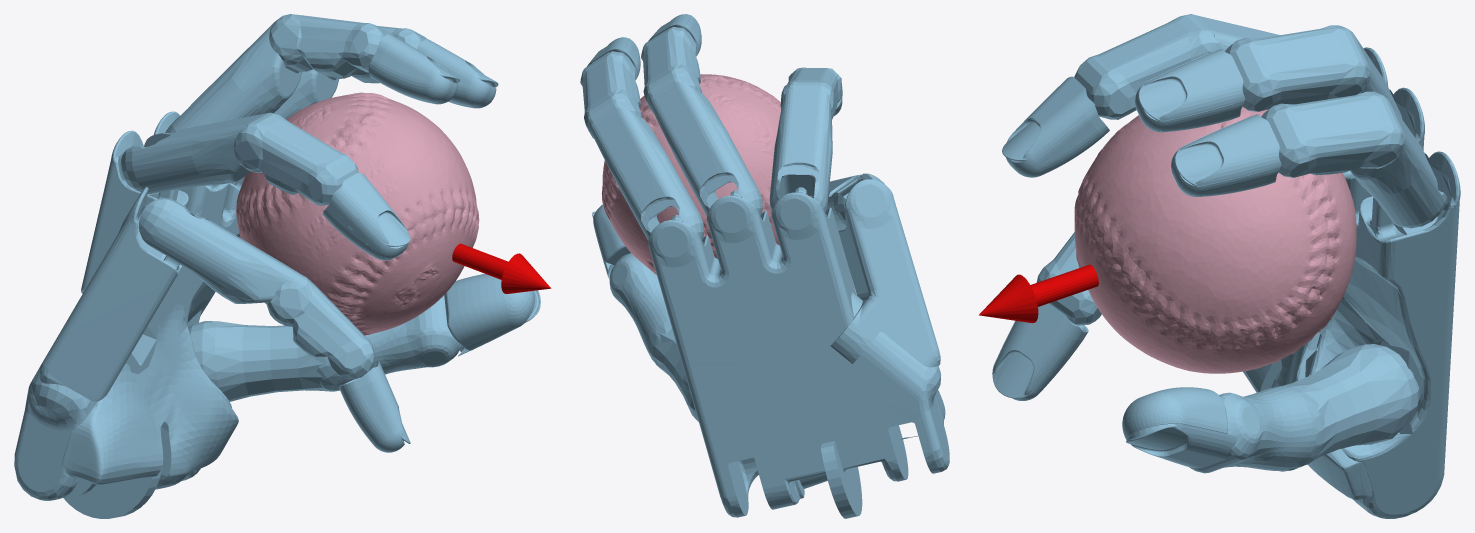
The picture shows the model from 3 angles, left to right: view 1: azimuth 30°, elevation 25°; view 2: azimuth 150°, elevation 25°; view 3: azimuth 270°, elevation 25°; orthographic projection. The views are drawn at different scales.
Visible parts, largest first — view 1: world, baseball.stl; view 2: world, baseball.stl; view 3: world, baseball.stl.
Part boxes in pixels (x1,y1,x2,y2): world: (14,14,551,518); baseball.stl: (236,92,479,335); world: (580,14,949,518); baseball.stl: (601,74,811,274); world: (979,14,1460,518); baseball.stl: (1074,107,1356,373).
Bounding box in the file's own units: 0.161 × 0.1571 × 0.1241.
